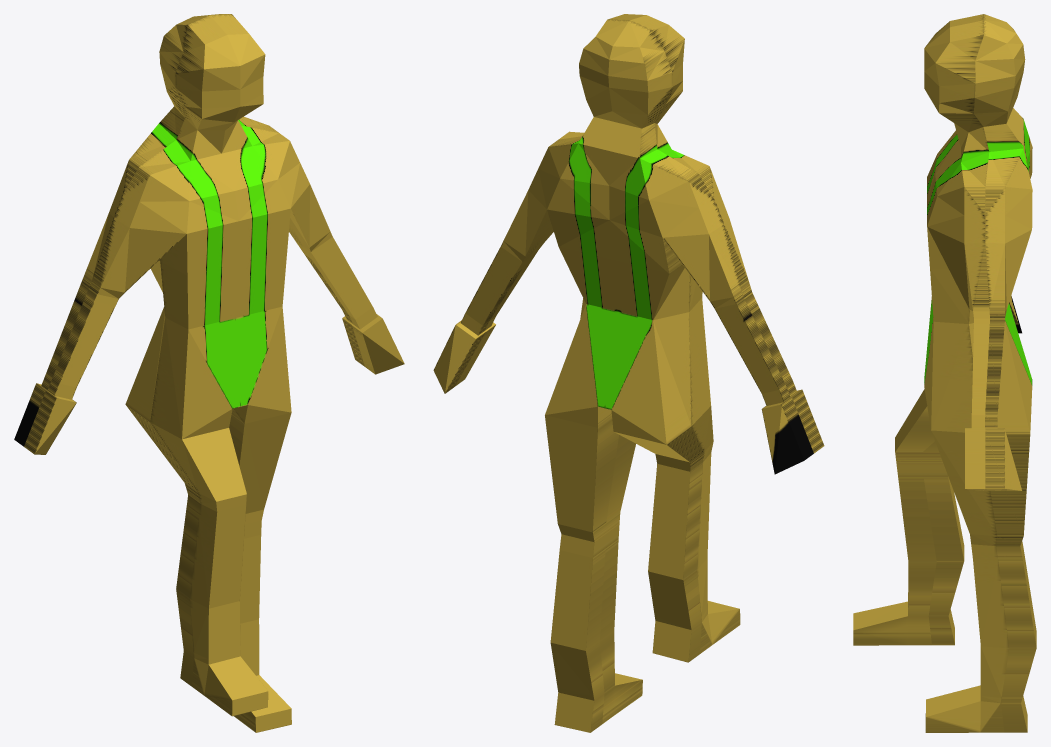
3 renders of one model, left to right at view 1: azimuth 30°, elevation 25°; view 2: azimuth 150°, elevation 25°; view 3: azimuth 270°, elevation 25°, orthographic.
Visible parts, largest first — view 1: Borat; view 2: Borat; view 3: Borat.
Boxes of the visible parts, x1=… form: Borat: x1=14, y1=14, x2=404, y2=732; Borat: x1=433, y1=14, x2=824, y2=732; Borat: x1=853, y1=14, x2=1036, y2=732.
Bounding box in the file's own units: 1.79 × 3.23 × 0.781.
